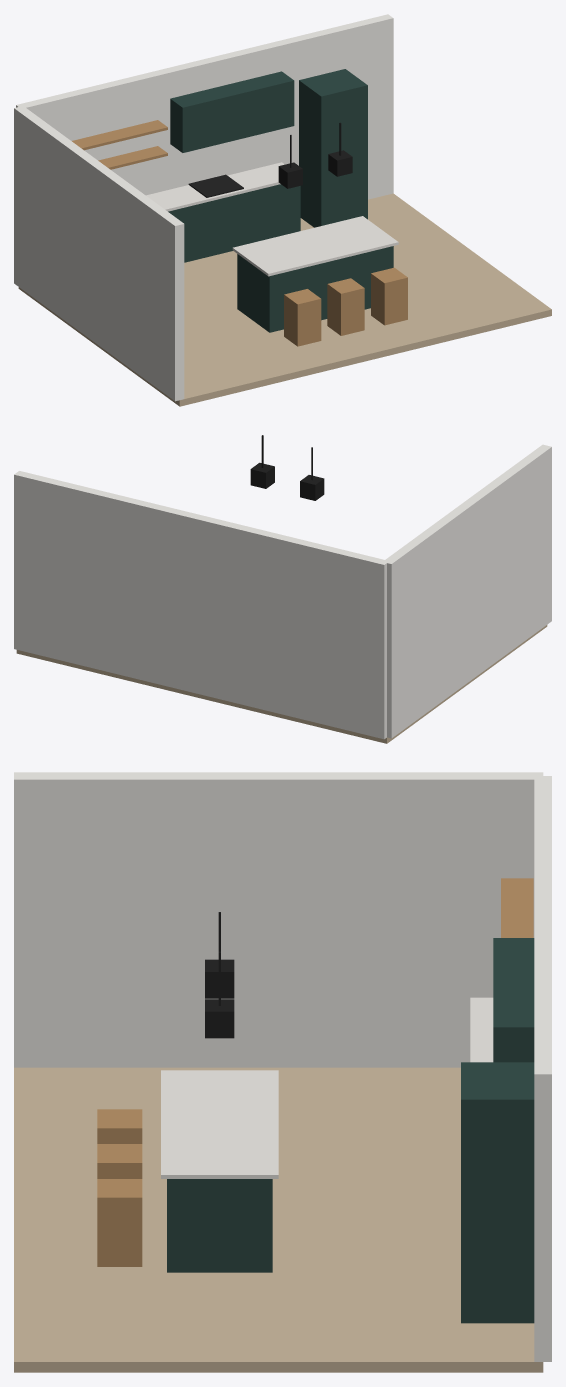
File: kitchen-after.glb
3 renders of one model, top to bottom at view 1: azimuth 30°, elevation 25°; view 2: azimuth 150°, elevation 25°; view 3: azimuth 270°, elevation 25°, orthographic. The views are drawn at different scales.
Parts seen in each view (by area): view 1: Wall_Left, Floor, Wall_Back, Fridge_Panel, Upper_Cabinets, Counter_Base, Island, Island_Top, Counter_Top, Stool_2, Stool_1, Stool_3 (+5 smaller); view 2: Wall_Back, Wall_Left, Floor, Pendant_1, Pendant_2; view 3: Wall_Left, Floor, Fridge_Panel, Island_Top, Wall_Back, Island, Upper_Cabinets, Stool_3, Shelf_Upper, Stool_1, Stool_2, Counter_Top (+2 smaller).
Boxes of the visible parts, x1,y1,x2,y2 form: Wall_Left: (14, 107, 184, 401); Floor: (18, 193, 551, 406); Wall_Back: (16, 14, 393, 199); Fridge_Panel: (299, 69, 367, 227); Upper_Cabinets: (170, 71, 294, 152); Counter_Base: (168, 184, 300, 262); Island: (237, 246, 393, 332); Island_Top: (232, 216, 398, 276); Counter_Top: (146, 162, 284, 211); Stool_2: (327, 278, 364, 335); Stool_1: (284, 289, 321, 346); Stool_3: (371, 267, 407, 325); Wall_Back: (14, 471, 388, 739); Wall_Left: (384, 444, 551, 738); Floor: (16, 625, 547, 743); Pendant_1: (300, 475, 324, 500); Pendant_2: (250, 462, 274, 488); Wall_Left: (14, 772, 543, 1067); Floor: (14, 1067, 543, 1372); Fridge_Panel: (461, 1062, 534, 1323); Island_Top: (161, 1070, 278, 1178); Wall_Back: (534, 776, 551, 1361); Island: (167, 1179, 272, 1272); Upper_Cabinets: (493, 938, 534, 1062); Stool_3: (97, 1179, 142, 1266); Shelf_Upper: (501, 878, 533, 937); Stool_1: (97, 1109, 142, 1143); Stool_2: (97, 1144, 142, 1178); Counter_Top: (470, 997, 493, 1062).
Size of the model in its own units: 6.08 by 2.83 by 4.58.
